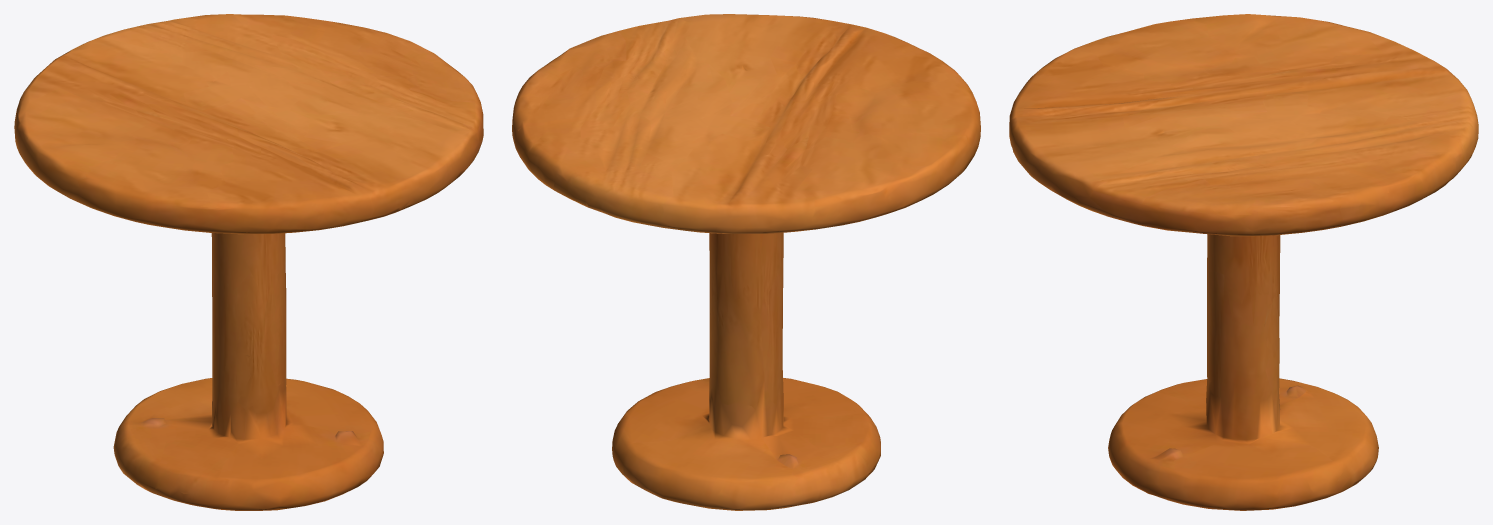
File: table.glb
The picture shows the model from 3 angles, left to right: view 1: azimuth 30°, elevation 25°; view 2: azimuth 150°, elevation 25°; view 3: azimuth 270°, elevation 25°; orthographic projection.
Parts seen in each view (by area): view 1: tripo_node_9366d606-7bde-422d-9599-b6766918752f; view 2: tripo_node_9366d606-7bde-422d-9599-b6766918752f; view 3: tripo_node_9366d606-7bde-422d-9599-b6766918752f.
Boxes of the visible parts, left/top/right/bottom form: tripo_node_9366d606-7bde-422d-9599-b6766918752f: left=14, top=14, right=483, bottom=510; tripo_node_9366d606-7bde-422d-9599-b6766918752f: left=512, top=14, right=980, bottom=510; tripo_node_9366d606-7bde-422d-9599-b6766918752f: left=1009, top=14, right=1478, bottom=510.
Bounding box in the file's own units: 0.9998 × 0.8171 × 1.
Materials: 1 (1 with a texture image).
